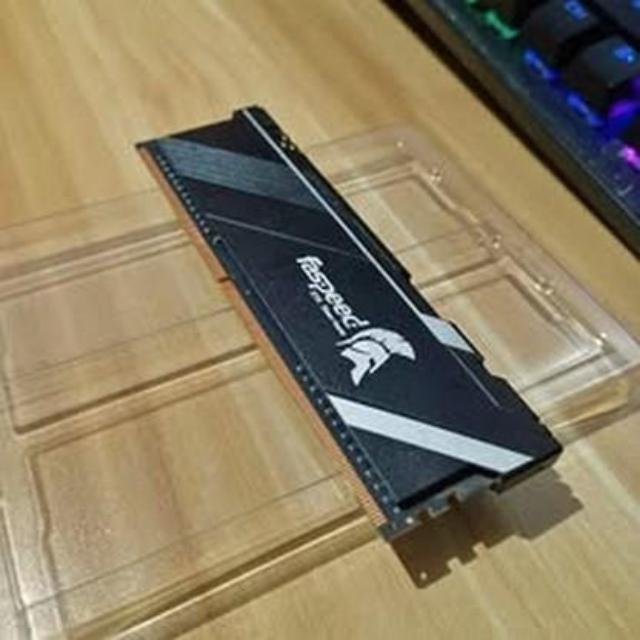RAM: (134, 99, 568, 572)
